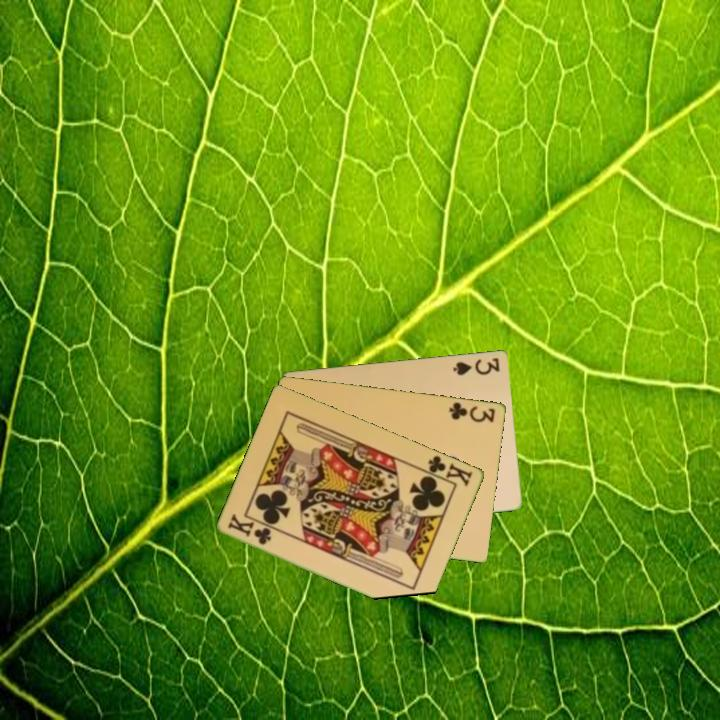3c: (446, 398, 498, 425)
3s: (450, 354, 503, 378)
Kc: (420, 452, 476, 489), (224, 511, 275, 548)
